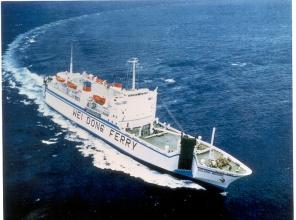otherboat: (39, 46, 255, 189)
